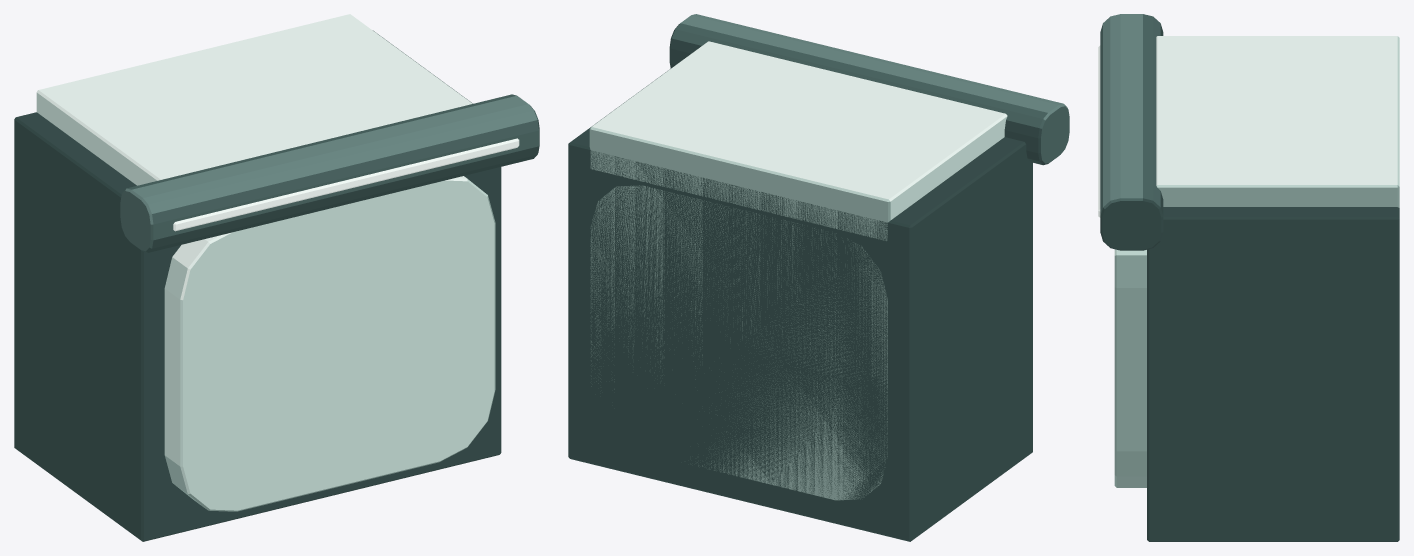
The model's file is Terrain_TopRun1LR.gltf.
3 views of the same model, side by side, from view 1: azimuth 30°, elevation 25°; view 2: azimuth 150°, elevation 25°; view 3: azimuth 270°, elevation 25° (orthographic). The views are drawn at different scales.
Visible parts, largest first — view 1: Terrain_TopRun1LR_baked; view 2: Terrain_TopRun1LR_baked; view 3: Terrain_TopRun1LR_baked.
Part boxes in pixels (x1,y1,x2,y2): Terrain_TopRun1LR_baked: [14, 14, 539, 541]; Terrain_TopRun1LR_baked: [568, 14, 1069, 541]; Terrain_TopRun1LR_baked: [1098, 14, 1399, 541].
Bounding box in the file's own units: 1.08 × 0.9495 × 0.74.
